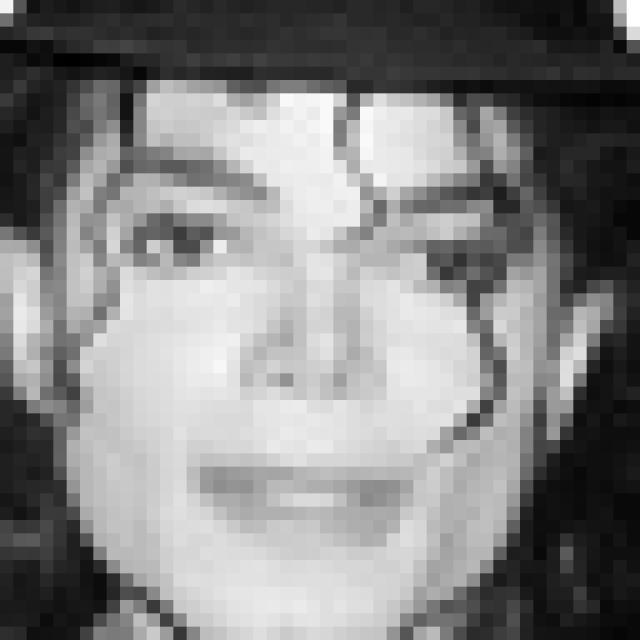neutral: (105, 142, 539, 575)
